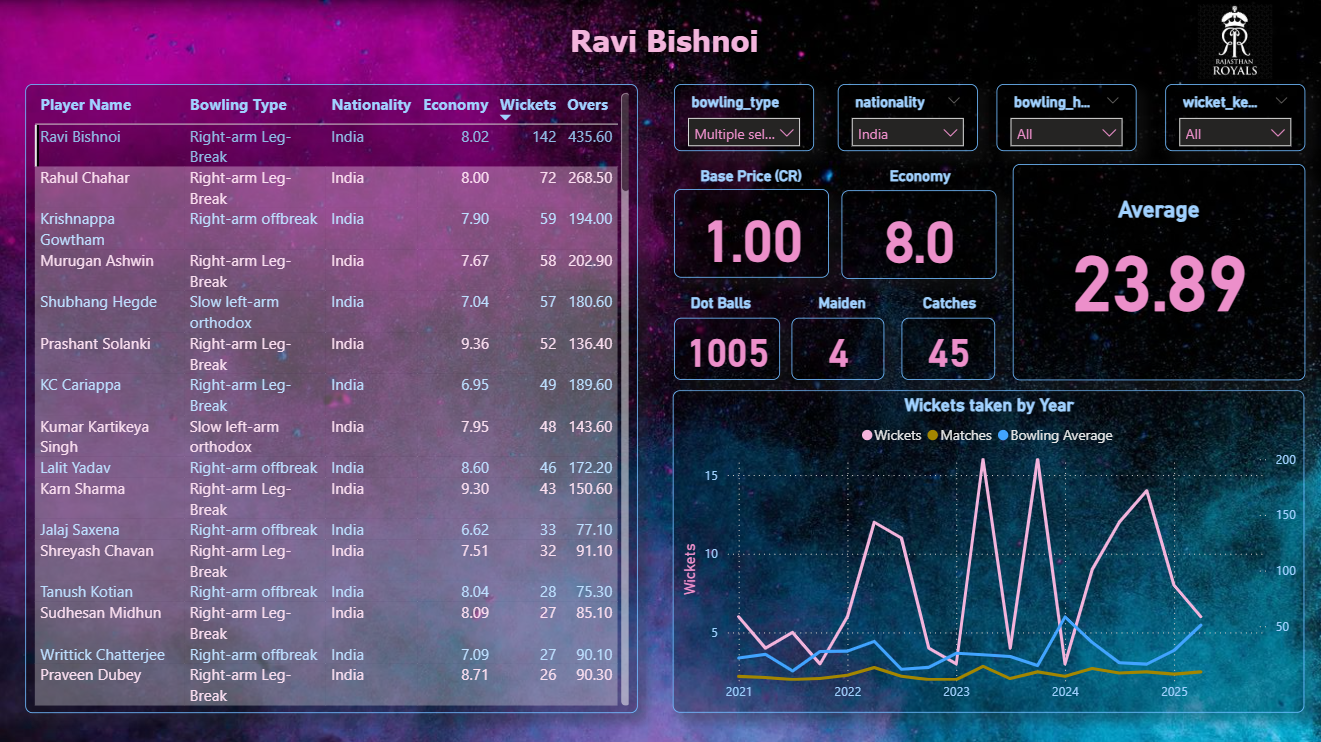

Layout of this report page (visuals, bound fields, positions):
{"tool":"powerbi","page":{"name":"Bowler","canvas":[1280,720],"ordinal":1},"visuals":[{"type":"tableEx","fields":{"Values":["Auction players.Player Name","players.bowling_type","players.nationality","Avg(player_match_stats.economy_rate)","Sum(player_match_stats.wicket_taken)","Sum(player_match_stats.overs_bowled)"]},"box":[25.3,82,591.2,606.8],"z":0},{"type":"slicer","fields":{"Values":["players.bowling_type"]},"box":[651.5,82,135.1,65.1],"z":1000},{"type":"lineChart","title":"Wickets taken by Year","fields":{"Category":["player_match_stats.match_date.Variation.Date Hierarchy.Year","player_match_stats.match_date.Variation.Date Hierarchy.Quarter"],"Y2":["CountNonNull(player_match_stats.match_id)","player_match_stats.Bowling Average"],"Y":["Sum(player_match_stats.wicket_taken)"]},"box":[650.3,377.6,609.3,311.3],"z":2000},{"type":"slicer","fields":{"Values":["players.nationality"]},"box":[809.5,82,135.1,65.1],"z":3000},{"type":"slicer","fields":{"Values":["players.bowling_hand"]},"box":[962.7,82,135.1,65.1],"z":4000},{"type":"card","fields":{"Values":["Sum(Auction players.Base Price)"]},"box":[651.5,183.4,149.6,85.7],"z":5000},{"type":"slicer","fields":{"Values":["players.is_wicket_keeper"]},"box":[1125.6,82,135.1,65.1],"z":6000},{"type":"card","fields":{"Values":["Sum(player_match_stats.dot_balls_bowled)"]},"box":[651.5,307.6,102.5,60.3],"z":7000},{"type":"card","fields":{"Values":["Sum(player_match_stats.maiden_overs_bowled)"]},"box":[764.9,307.6,89.3,60.3],"z":8000},{"type":"card","fields":{"Values":["Avg(player_match_stats.economy_rate)"]},"box":[813.1,184.6,149.6,85.7],"z":9000},{"type":"card","fields":{"Values":["player_match_stats.Bowling Average"]},"box":[978.4,159.3,282.3,208.7],"z":10000},{"type":"card","fields":{"Values":["Sum(player_match_stats.number_of_catches_taken)"]},"box":[871.1,307.6,90.5,60.3],"z":11000},{"type":"textbox","box":[651.5,278.7,90.5,29],"z":12000},{"type":"textbox","box":[768.5,278.7,90.5,29],"z":13000},{"type":"textbox","box":[872.3,278.7,90.5,29],"z":14000},{"type":"textbox","box":[651.5,156.8,148.4,29],"z":15000},{"type":"textbox","box":[814.3,156.8,149.6,29],"z":16000},{"type":"textbox","box":[978.4,185.8,282.3,41],"z":17000},{"type":"image","box":[1125.6,0,133.9,82],"z":18000},{"type":"card","fields":{"Values":["Min(players.player_name)"]},"box":[25.3,9.7,1234.2,62.7],"z":19000}]}

Visuals, with their boxes in screenshot pixels (x1, y1, x2, y2), scaled from the page's 1280x720 canvas onto the 1321x742 screenshot:
tableEx - Auction players.Player Name x players.bowling_type: 26/85/636/710
slicer - players.bowling_type: 672/85/812/152
"Wickets taken by Year" lineChart: 671/389/1300/710
slicer - players.nationality: 835/85/975/152
slicer - players.bowling_hand: 994/85/1133/152
card - Sum(Auction players.Base Price): 672/189/827/277
slicer - players.is_wicket_keeper: 1162/85/1301/152
card - Sum(player_match_stats.dot_balls_bowled): 672/317/778/379
card - Sum(player_match_stats.maiden_overs_bowled): 789/317/882/379
card - Avg(player_match_stats.economy_rate): 839/190/994/279
card - player_match_stats.Bowling Average: 1010/164/1301/379
card - Sum(player_match_stats.number_of_catches_taken): 899/317/992/379
textbox: 672/287/766/317
textbox: 793/287/887/317
textbox: 900/287/994/317
textbox: 672/162/826/191
textbox: 840/162/995/191
textbox: 1010/191/1301/234
image: 1162/0/1300/85
card - Min(players.player_name): 26/10/1300/75
